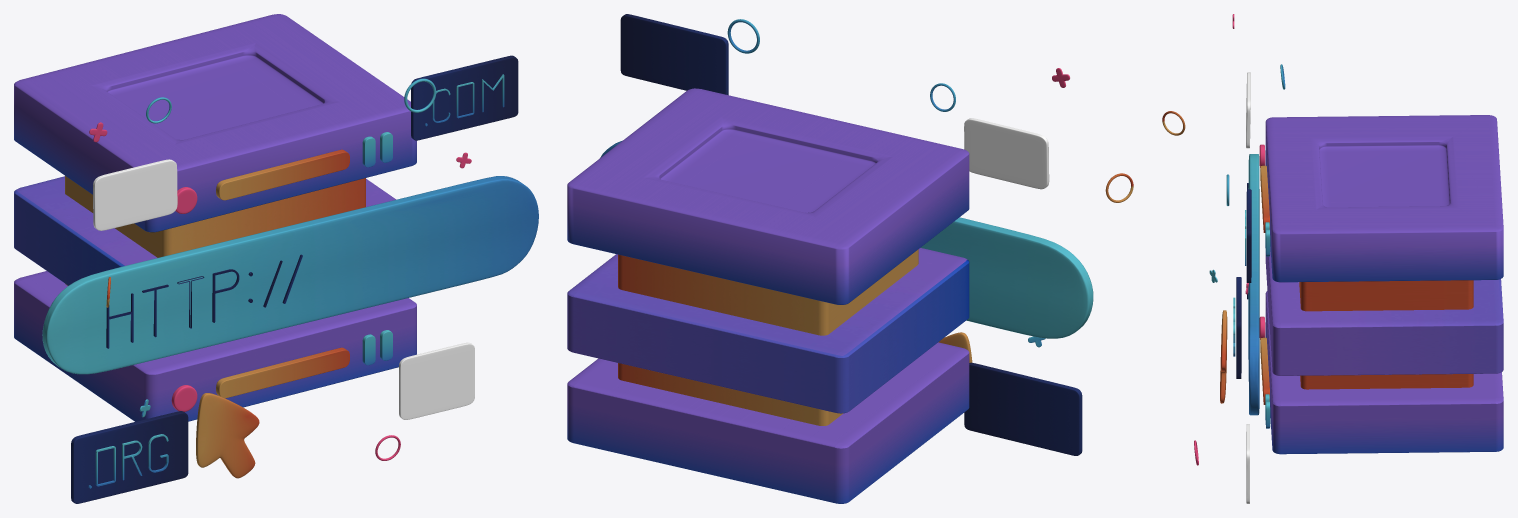
The model's file is domain-authority-3d-animated-icon-1284029743814.glb.
3 views of the same model, side by side, from view 1: azimuth 30°, elevation 25°; view 2: azimuth 150°, elevation 25°; view 3: azimuth 270°, elevation 25° (orthographic). The views are drawn at different scales.
Visible parts, largest first — view 1: Server.005, Domain, Server.003, Server.004, ORG Frame, Server, Com Frame, Cube.005, Cube.006, Plane, Server.001, Server.007 (+2 smaller); view 2: Server.005, Server.004, Server.003, Domain, Server, ORG Frame, Com Frame, Cube.006; view 3: Server.005, Server.004, Server.003, Server, Domain, ORG Frame, Plane, Com Frame, Server.007, Server.001.
Part boxes in pixels (left/top/right/bottom): Server.005: left=14, top=14, right=416, bottom=232; Domain: left=42, top=176, right=538, bottom=374; Server.003: left=14, top=271, right=416, bottom=421; Server.004: left=14, top=176, right=395, bottom=285; ORG Frame: left=71, top=411, right=188, bottom=503; Server: left=65, top=176, right=365, bottom=285; Com Frame: left=411, top=55, right=518, bottom=140; Cube.005: left=399, top=342, right=474, bottom=419; Cube.006: left=93, top=159, right=177, bottom=230; Plane: left=196, top=393, right=259, bottom=478; Server.001: left=216, top=347, right=349, bottom=398; Server.007: left=216, top=149, right=349, bottom=200; Server.005: left=567, top=88, right=969, bottom=304; Server.004: left=567, top=248, right=969, bottom=413; Server.003: left=567, top=342, right=969, bottom=503; Domain: left=600, top=140, right=1093, bottom=338; Server: left=618, top=249, right=918, bottom=425; ORG Frame: left=964, top=362, right=1082, bottom=455; Com Frame: left=620, top=14, right=728, bottom=95; Cube.006: left=964, top=118, right=1049, bottom=189; Server.005: left=1265, top=115, right=1503, bottom=282; Server.004: left=1265, top=247, right=1503, bottom=375; Server.003: left=1265, top=291, right=1503, bottom=454; Server: left=1299, top=280, right=1473, bottom=389; Domain: left=1248, top=154, right=1259, bottom=415; ORG Frame: left=1236, top=277, right=1241, bottom=378; Plane: left=1220, top=310, right=1227, bottom=403; Com Frame: left=1246, top=189, right=1251, bottom=282; Server.007: left=1260, top=165, right=1269, bottom=232; Server.001: left=1260, top=337, right=1269, bottom=404.
Size of what is drawn, in the model's own units: 5.16 by 3.89 by 3.57.
Materials: 10 (7 with a texture image).
